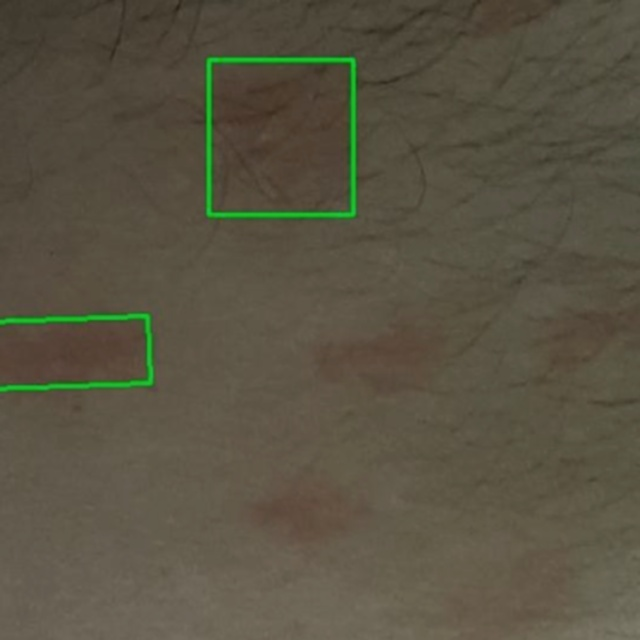Tinea Corporis: (208, 59, 353, 214), (0, 317, 150, 389)
